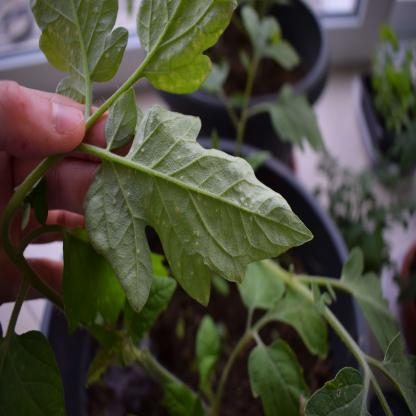tomato mold leaf: (90, 107, 316, 313), (137, 0, 243, 97), (26, 0, 131, 72), (242, 337, 313, 416)
